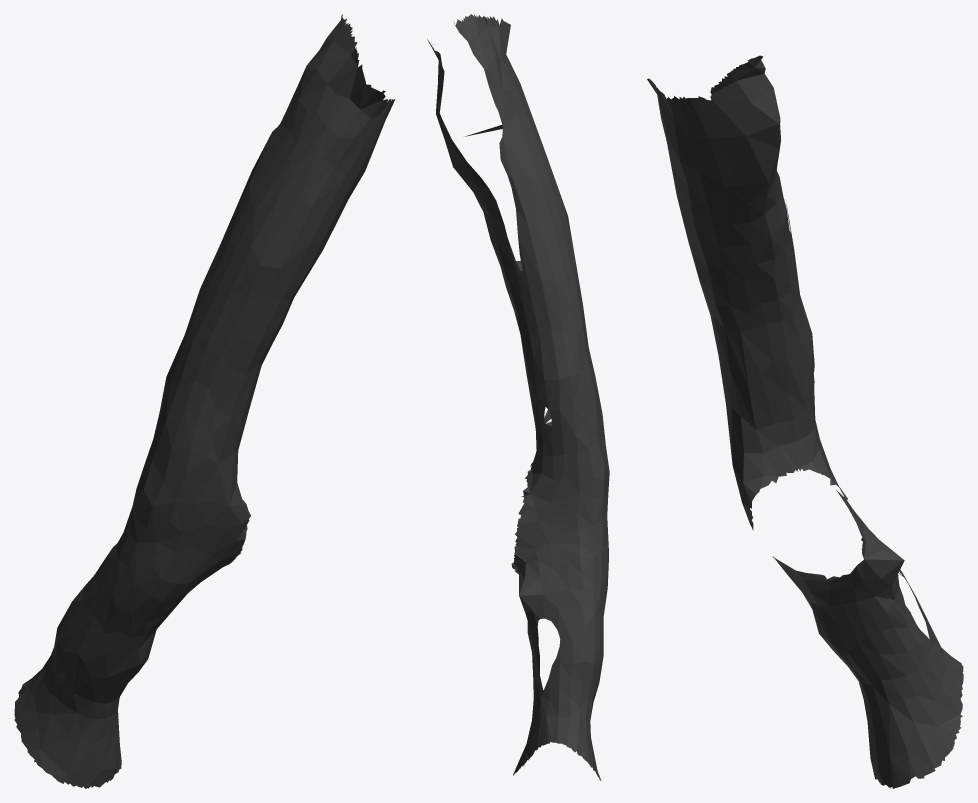
Rendered from A_brachial_R_A_brachial_R.glb.
3 renders of one model, left to right at view 1: azimuth 30°, elevation 25°; view 2: azimuth 150°, elevation 25°; view 3: azimuth 270°, elevation 25°, orthographic. The views are drawn at different scales.
Visible parts, largest first — view 1: A_brachial_R_A_brachial_R; view 2: A_brachial_R_A_brachial_R; view 3: A_brachial_R_A_brachial_R.
Part boxes in pixels (x1,y1,x2,y2): A_brachial_R_A_brachial_R: (14, 14, 395, 788); A_brachial_R_A_brachial_R: (427, 14, 609, 780); A_brachial_R_A_brachial_R: (647, 55, 963, 788).
Size of the model in its own units: 0.00979 by 0.0265 by 0.00904.
1 material, 1 textured.
